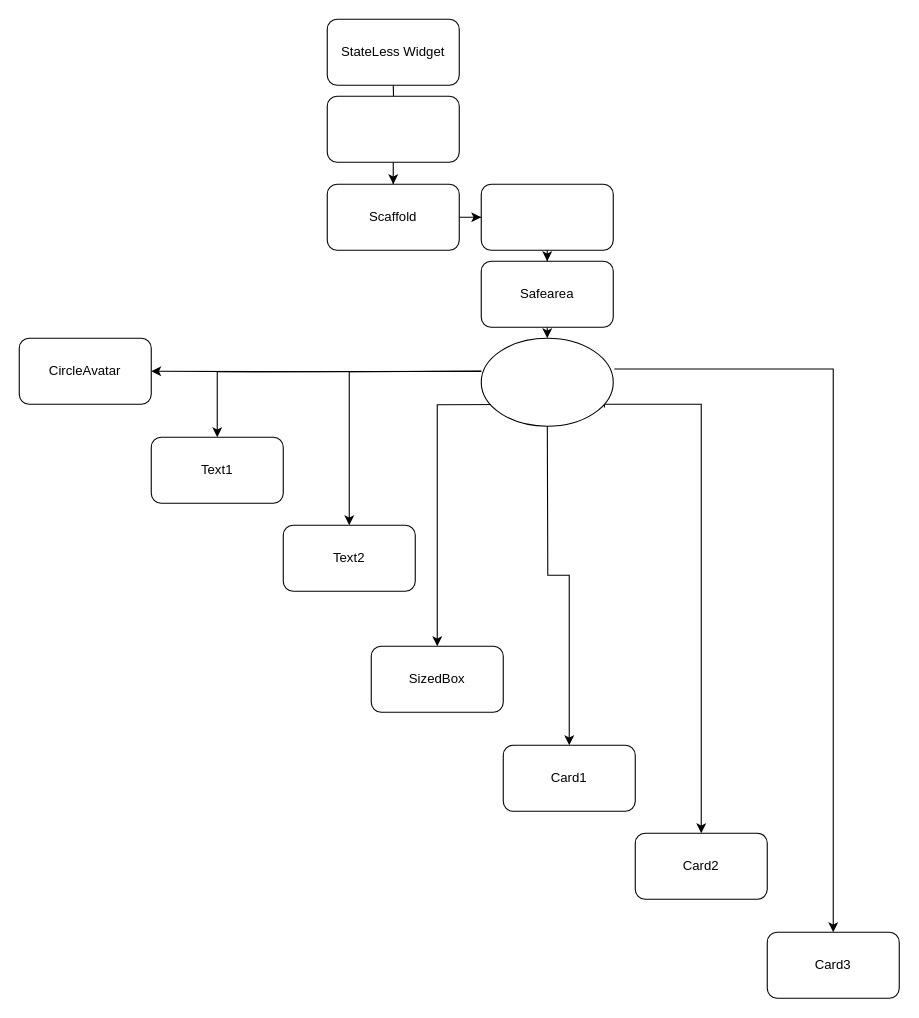
The diagram is 919 pixels wide and 1018 high, and some of its shapes have lost their labels. Here are the shapes that lost their labels. From the top down, the centre of each, then its label:
[392,128]: Material App
[546,216]: body
[546,381]: Column
